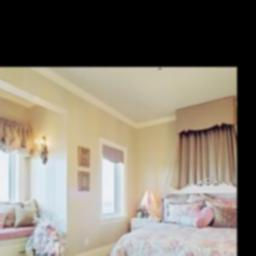Otro Obstaculo: (28, 229, 64, 256)
